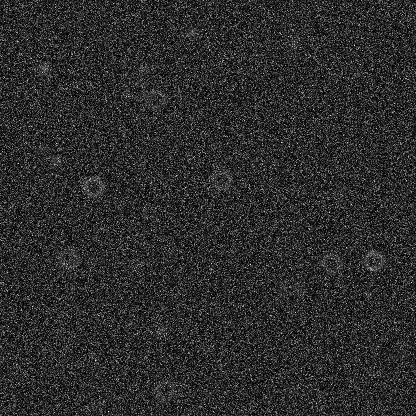Ring: (143, 87, 167, 111), (152, 378, 176, 402), (316, 187, 340, 211), (81, 174, 105, 198), (361, 248, 385, 272), (319, 250, 343, 274), (299, 385, 323, 409), (208, 167, 232, 191), (123, 78, 147, 102), (55, 246, 79, 270)
Spot: (258, 154, 274, 170), (292, 281, 308, 297), (126, 257, 142, 273), (134, 61, 150, 77), (48, 153, 64, 169), (358, 35, 374, 51), (275, 282, 291, 298), (152, 323, 168, 339), (139, 199, 155, 215), (285, 34, 301, 50), (32, 140, 48, 156), (197, 341, 213, 357), (183, 23, 199, 39), (36, 60, 52, 76), (269, 94, 285, 110)
